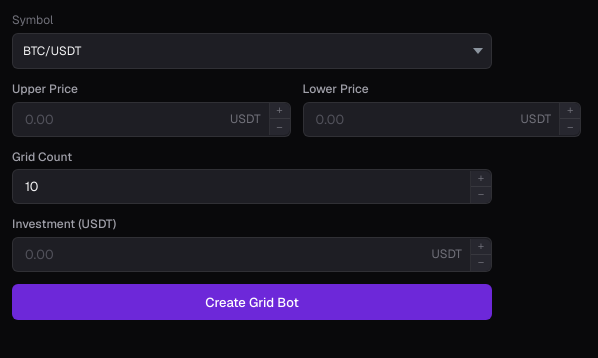
Test: GridBotForm › shows validation error when investment is missing
Type "70000" into the field labelled "Upper Price" at (118, 119), box [13, 103, 222, 136]
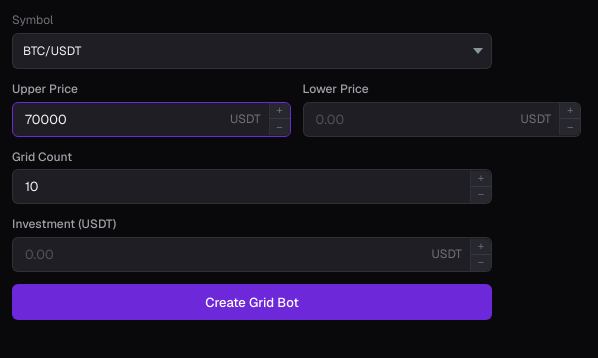
Type "60000" into the field labelled "Lower Price" at (408, 119), box [304, 103, 513, 136]
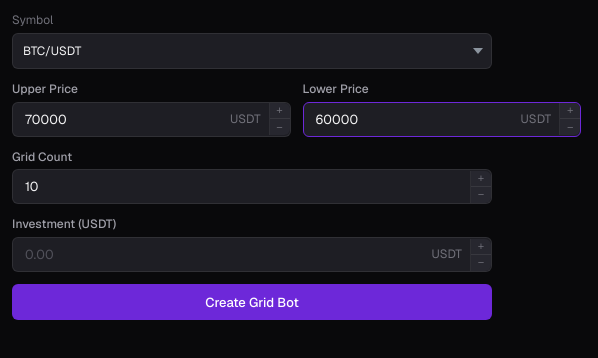
Click the button "Create Grid Bot" at (252, 302), box [12, 284, 492, 320]
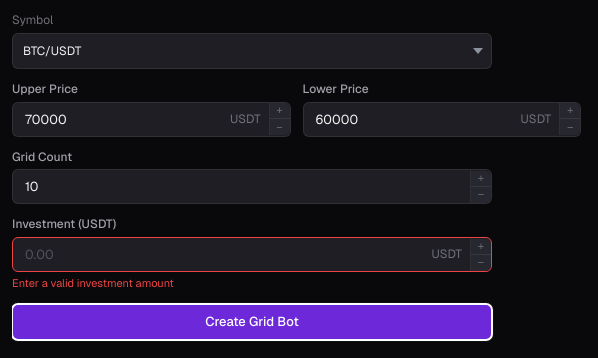
Check: the text "Enter a valid investment amount" is shown, box [12, 276, 174, 290]
